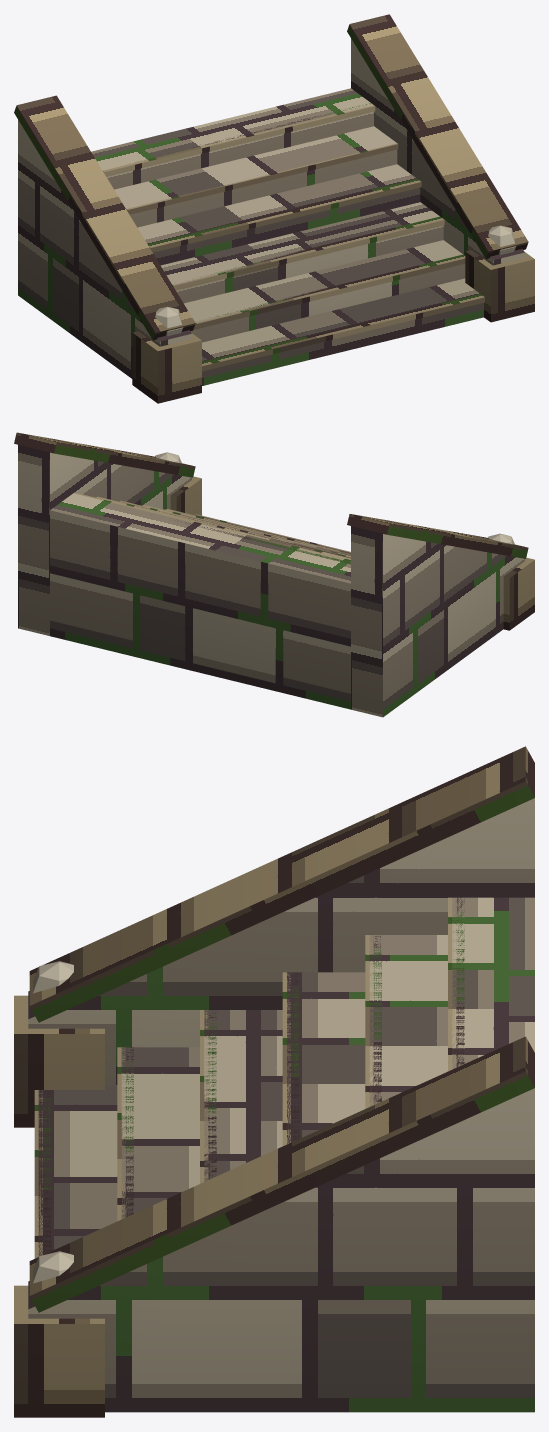
File: scene_stair_walk.glb
3 renders of one model, top to bottom at view 1: azimuth 30°, elevation 25°; view 2: azimuth 150°, elevation 25°; view 3: azimuth 270°, elevation 25°, orthographic. The views are drawn at different scales.
Parts seen in each view (by area): view 1: scene_stair_walk; view 2: scene_stair_walk; view 3: scene_stair_walk.
Part boxes in pixels (x1,y1,x2,y2): scene_stair_walk: (14,14,534,403); scene_stair_walk: (14,432,534,717); scene_stair_walk: (14,746,534,1417).
Size of the model in its own units: 3.76 by 1.84 by 2.52.
2 materials, 1 textured.
